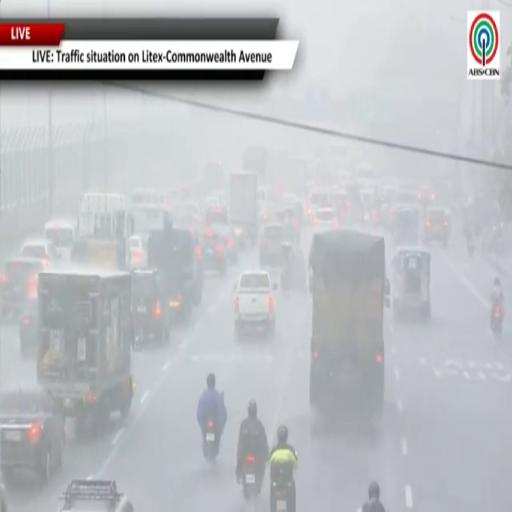car: (0, 388, 65, 482), (132, 269, 172, 347), (235, 270, 278, 339), (0, 256, 44, 315), (59, 479, 134, 511), (44, 219, 76, 261), (259, 223, 288, 267), (19, 296, 38, 358), (203, 226, 227, 275), (209, 224, 238, 264), (20, 238, 59, 265), (423, 207, 450, 246), (174, 202, 202, 228), (306, 189, 330, 218), (129, 235, 147, 268), (313, 207, 338, 229), (205, 204, 229, 225), (179, 202, 201, 222)
motorcycle: (271, 478, 295, 511), (243, 455, 260, 500), (202, 419, 220, 461), (491, 303, 503, 335), (280, 267, 292, 292), (134, 329, 145, 350), (467, 237, 474, 255)
truck: (37, 268, 133, 438), (309, 230, 389, 420), (148, 220, 203, 319), (71, 194, 133, 269), (230, 172, 259, 247), (243, 147, 269, 182), (203, 162, 225, 196)
